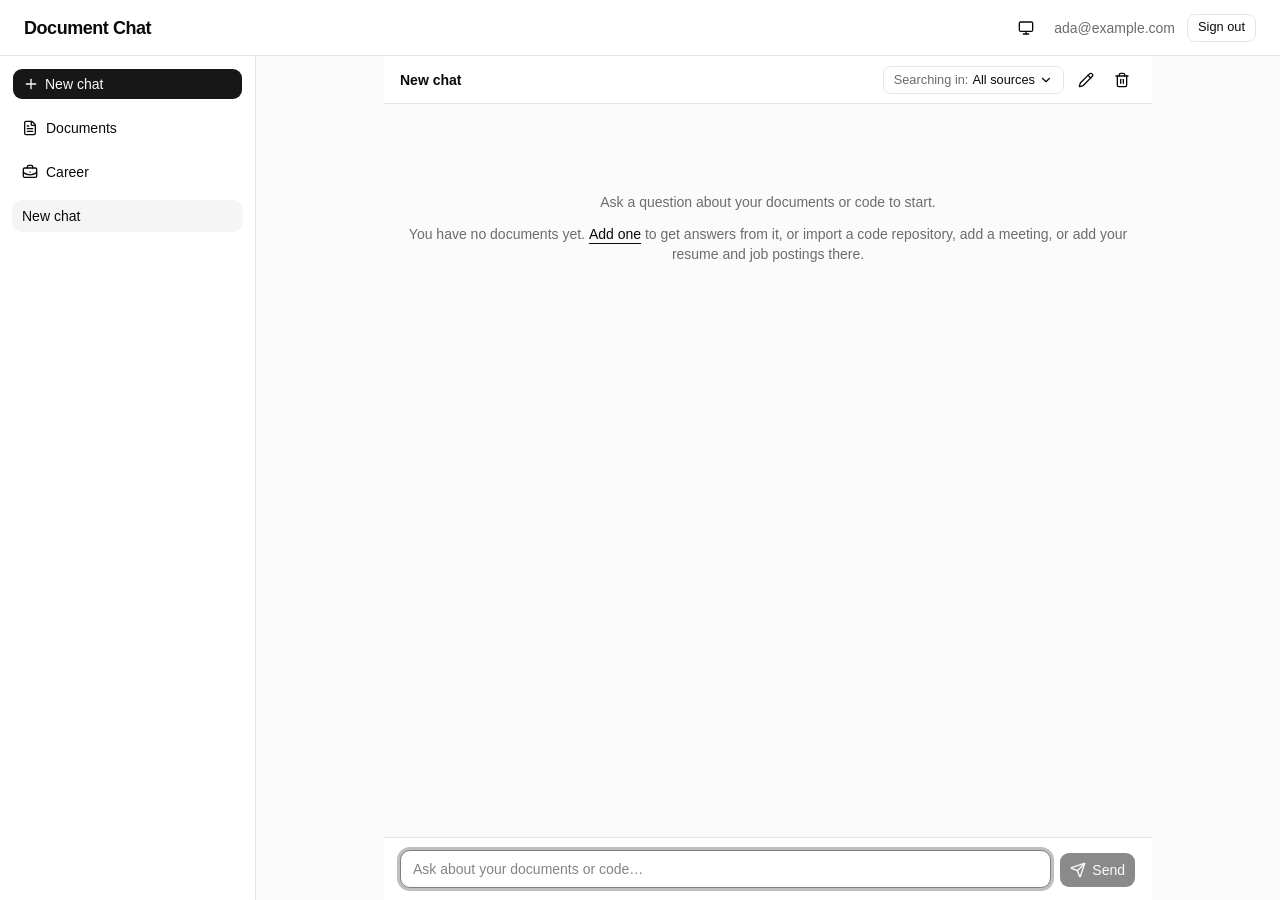
Test: chat view › asking a question › does not show an answer without sources as having any
The width and height of the screenshot is (1280, 900).
Type "Who won?" into the text box named "Your question".
click(726, 869); type("Who won?")  # box [400,850,1051,888]
Then press Enter
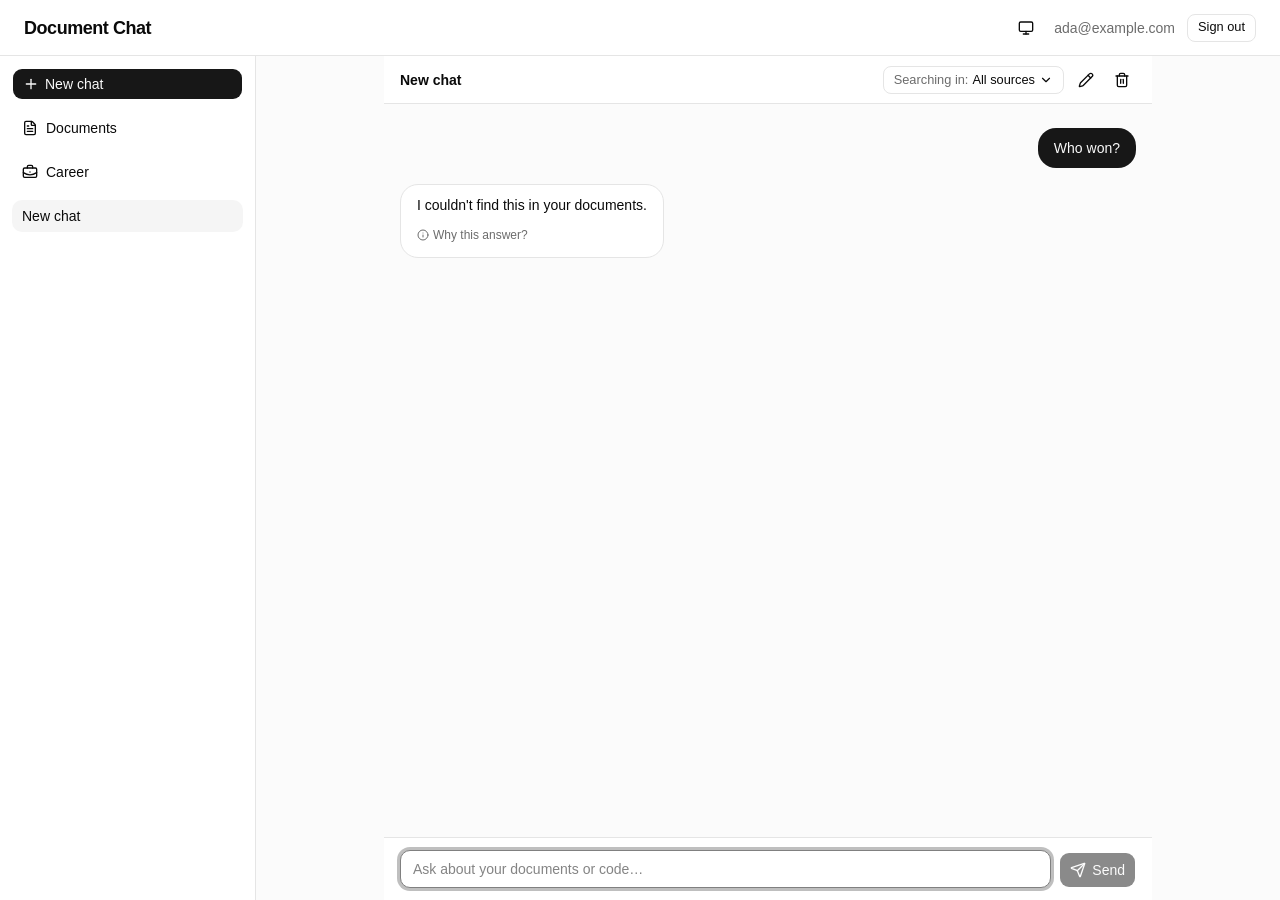
Check: the text "I couldn't find this in your documents." is shown, box [417,195,647,215]
